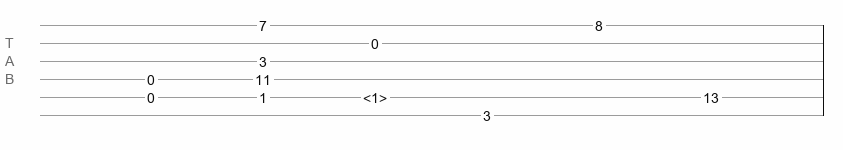0: (147, 90, 155, 100), (147, 72, 155, 82), (371, 36, 379, 46)
1: (259, 90, 267, 100)
11: (255, 72, 271, 82)
13: (703, 90, 719, 100)
3: (259, 54, 267, 64), (483, 108, 491, 118)
7: (259, 18, 267, 28)
8: (595, 18, 603, 28)
harmonic: (363, 90, 387, 100)
